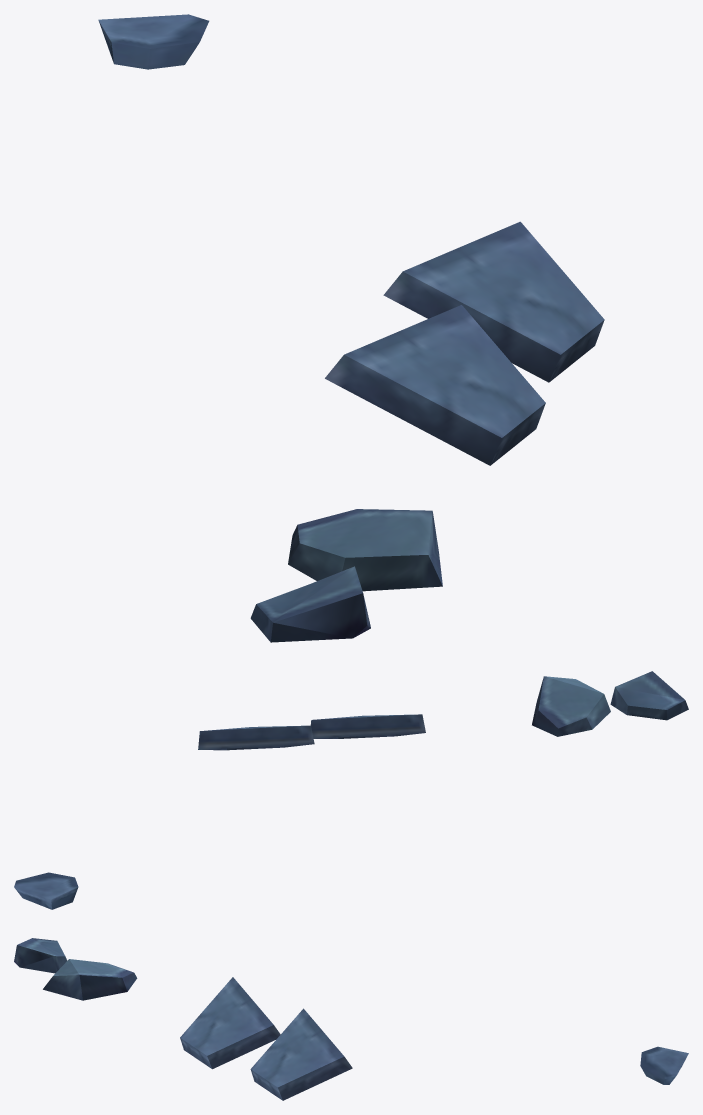
The model's file is Area12_8.fbx.
The picture shows the model from 3 angles, top to bottom: view 1: azimuth 30°, elevation 25°; view 2: azimuth 150°, elevation 25°; view 3: azimuth 270°, elevation 25°; orthographic projection. The views are drawn at different scales.
Parts seen in each view (by area): view 1: Area12_8; view 2: Area12_8; view 3: Area12_8.
Boxes of the visible parts, x1,y1,x2,y2 form: Area12_8: (98,14,604,642); Area12_8: (14,671,688,909); Area12_8: (14,938,688,1100).
Bounding box in the file's own units: 596 × 99.2 × 1199.
Materials: 1 (1 with a texture image).
